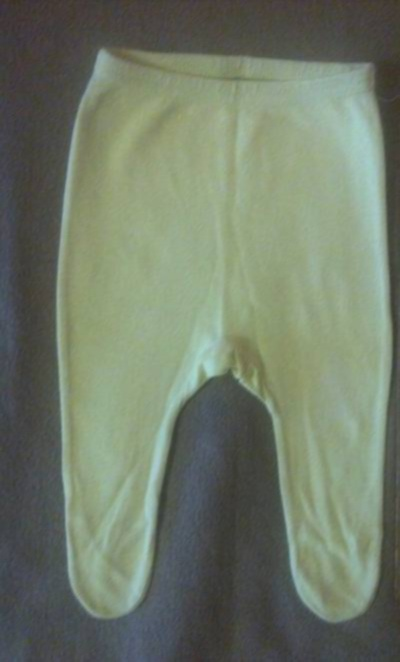Pants: (49, 42, 398, 630)
